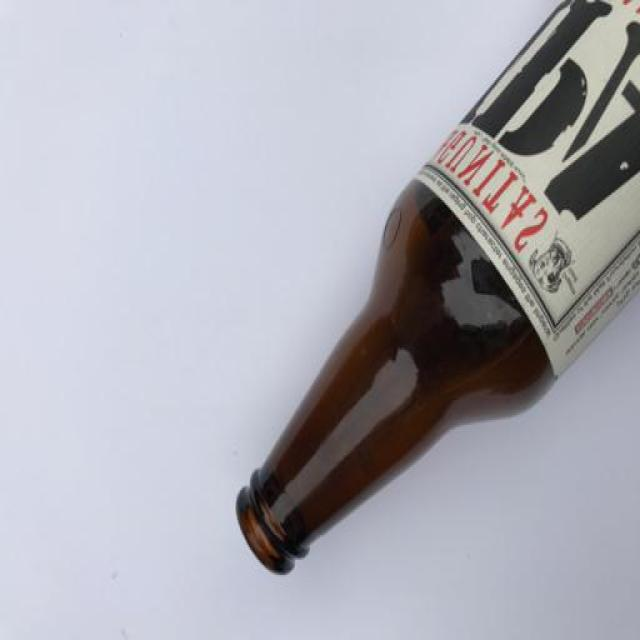glass: (236, 1, 640, 576)
